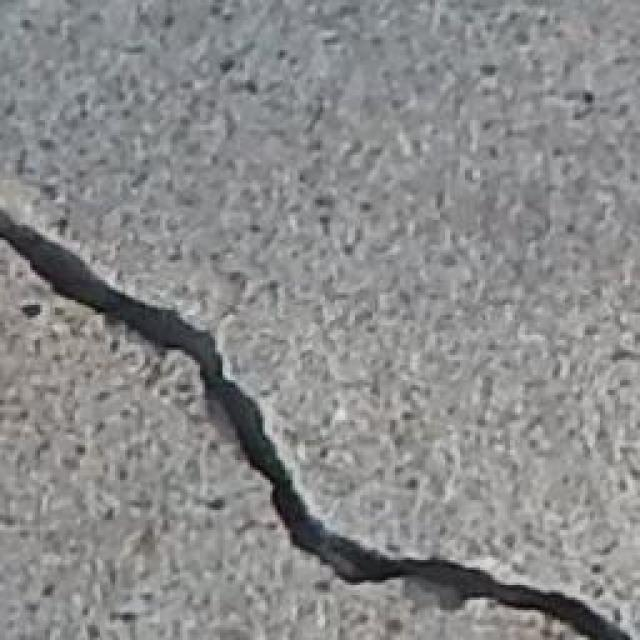concrete-crack: (0, 204, 640, 640)
